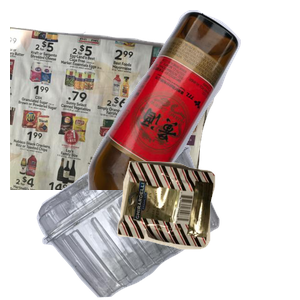glass: (85, 10, 300, 190)
paper: (10, 22, 225, 202)
plastic: (34, 130, 246, 300)
trash: (115, 158, 300, 300)
